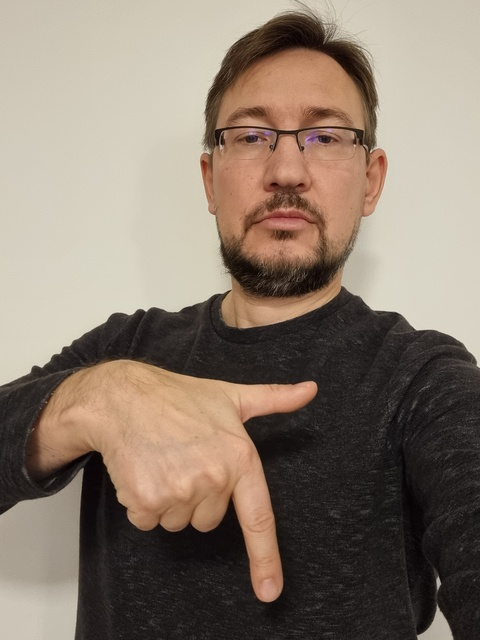GestDown: (127, 379, 318, 601)
